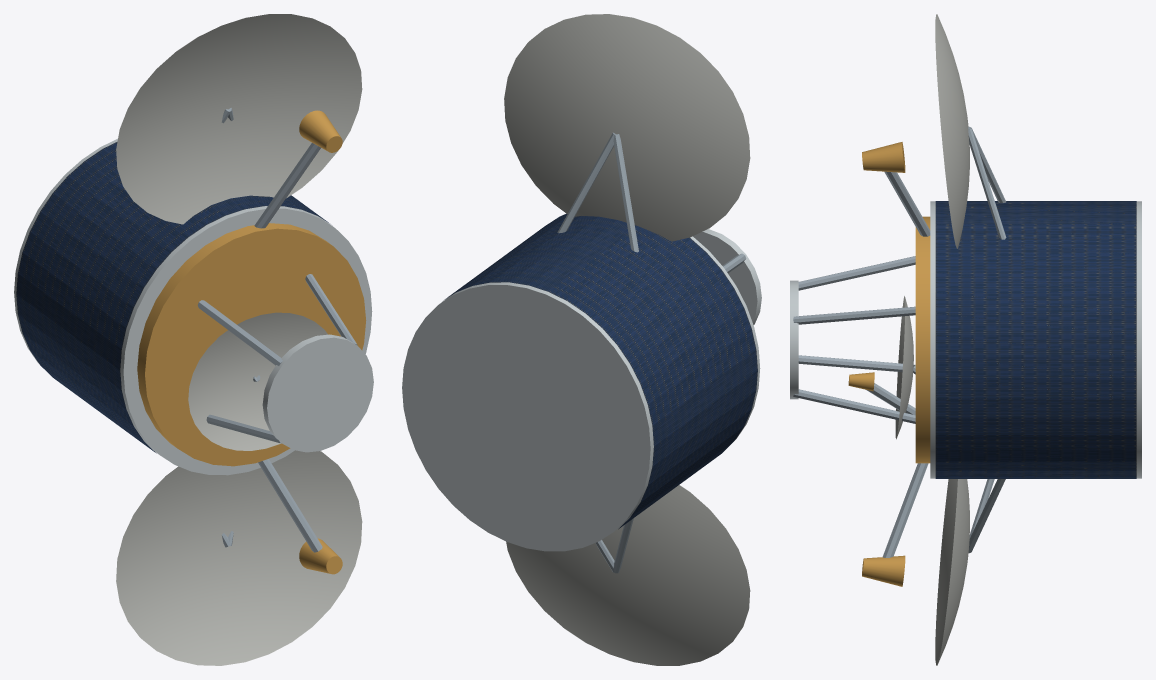
Rendered from ref-hs-381-15236.glb.
3 views of the same model, side by side, from view 1: azimuth 30°, elevation 25°; view 2: azimuth 150°, elevation 25°; view 3: azimuth 270°, elevation 25° (orthographic). The views are drawn at different scales.
Visible parts, largest first — view 1: Communications reflector (×2), Body-mounted solar cells, Despun equipment deck, Antenna tower platform, Solar drum core, Deck-mounted reflector, Antenna tower leg (×3), Offset feed boom (×2), Feed horn (×2); view 2: Communications reflector (×2), Solar drum core, Body-mounted solar cells, Antenna tower platform, Shell hinge strut (×2); view 3: Body-mounted solar cells, Communications reflector (×2), Antenna tower leg (×4), Despun equipment deck, Solar drum core, Feed horn (×2), Offset feed boom (×2), Shell hinge strut (×2), Deck-mounted reflector, Antenna tower platform.
Part boxes in pixels (box(x1,y1,x2,y2)): Communications reflector (×2): box(116, 14, 362, 665); Body-mounted solar cells: box(16, 142, 329, 453); Despun equipment deck: box(137, 223, 366, 466); Antenna tower platform: box(262, 334, 373, 452); Solar drum core: box(14, 138, 372, 475); Deck-mounted reflector: box(188, 312, 327, 450); Antenna tower leg (×3): box(197, 274, 357, 443); Offset feed boom (×2): box(254, 143, 322, 552); Feed horn (×2): box(299, 110, 342, 574); Communications reflector (×2): box(504, 14, 750, 665); Solar drum core: box(402, 214, 760, 551); Body-mounted solar cells: box(443, 213, 757, 529); Antenna tower platform: box(693, 229, 761, 324); Shell hinge strut (×2): box(557, 132, 638, 252); Body-mounted solar cells: box(935, 201, 1136, 478); Communications reflector (×2): box(935, 14, 969, 665); Antenna tower leg (×4): box(793, 256, 915, 423); Despun equipment deck: box(915, 216, 930, 463); Solar drum core: box(930, 201, 1141, 478); Feed horn (×2): box(862, 142, 905, 586); Offset feed boom (×2): box(882, 171, 930, 557); Shell hinge strut (×2): box(968, 128, 1006, 553); Deck-mounted reflector: box(895, 296, 913, 439); Antenna tower platform: box(790, 280, 798, 399).
Size of the model in its own units: 4.32 by 10.65 by 5.45.
5 materials, 1 textured.
